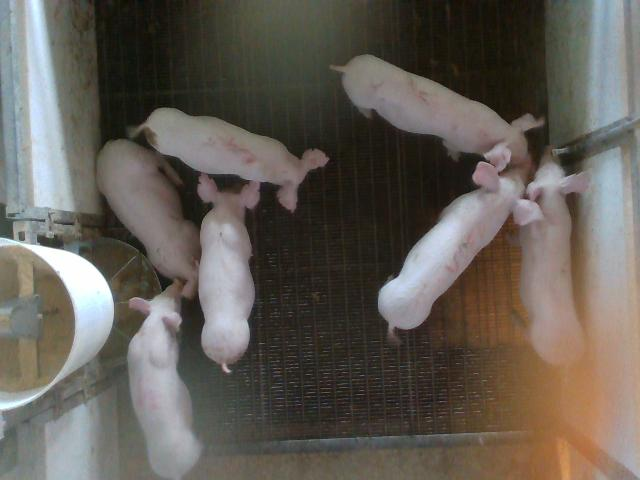pig-3: (379, 162, 542, 338)
pig-4: (128, 280, 201, 478)
pig-5: (130, 108, 329, 211)
